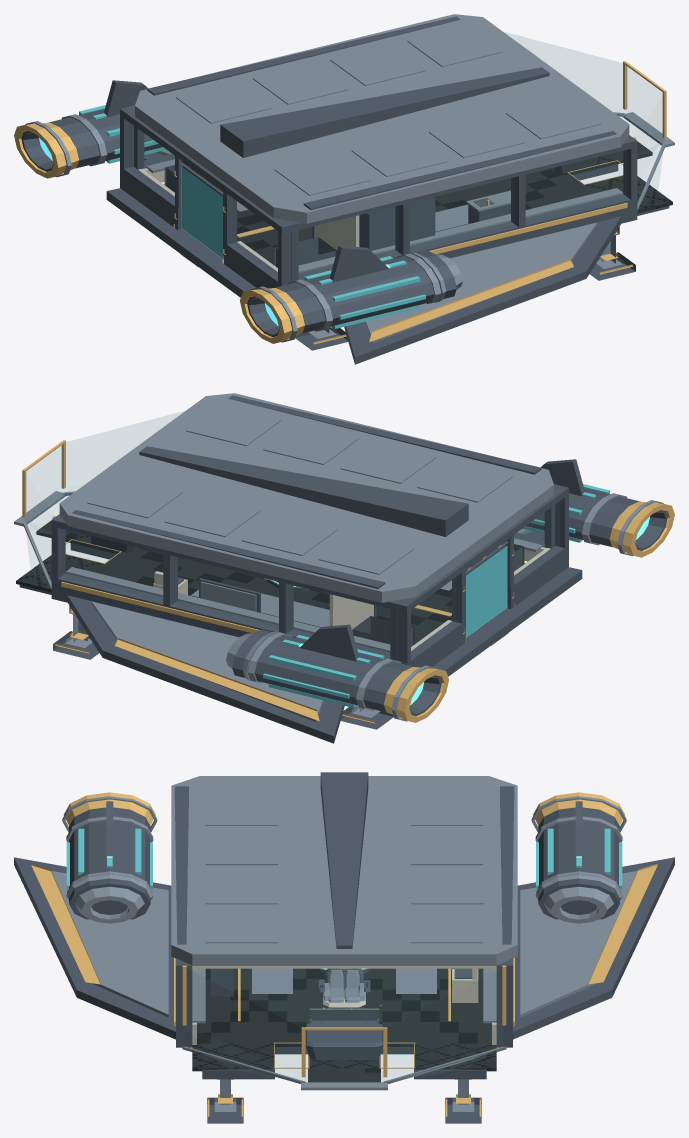
The model's file is salimon_phase0_ship.glb.
3 views of the same model, one above another, from view 1: azimuth 30°, elevation 25°; view 2: azimuth 150°, elevation 25°; view 3: azimuth 270°, elevation 25° (orthographic). The views are drawn at different scales.
Visible parts, largest first — view 1: Hull_Roof, Roof_Service_Panels, Hull_Port_Side, Dorsal_Spine, Hull_Aft_Cap, Deck_Walkable, Wing_Port, Engine_Port, Wing_Port_Armor, Cockpit_Glazing, Roof_Shoulder_Rails, Hull_Belly (+24 smaller); view 2: Hull_Roof, Roof_Service_Panels, Hull_Starboard_Side, Dorsal_Spine, Hull_Aft_Cap, Deck_Walkable, Wing_Starboard, Engine_Starboard, Wing_Starboard_Armor, Cockpit_Glazing, Roof_Shoulder_Rails, Hull_Belly (+24 smaller); view 3: Hull_Roof, Roof_Service_Panels, Deck_Walkable, Wing_Port_Armor, Wing_Starboard_Armor, Dorsal_Spine, Wing_Port, Wing_Starboard, Engine_Port, Engine_Starboard, Roof_Shoulder_Rails, Cockpit_Console_Center (+26 smaller).
Part boxes in pixels (x1,y1,x2,y2): Hull_Roof: (135,14,629,223); Roof_Service_Panels: (176,26,601,195); Hull_Port_Side: (285,135,637,281); Dorsal_Spine: (220,67,549,157); Hull_Aft_Cap: (120,106,291,289); Deck_Walkable: (237,141,672,264); Wing_Port: (344,216,621,364); Engine_Port: (274,250,456,333); Wing_Port_Armor: (365,222,597,342); Cockpit_Glazing: (505,32,662,136); Roof_Shoulder_Rails: (147,16,616,209); Hull_Belly: (106,164,669,297); Hull_Roof: (59,393,553,602); Roof_Service_Panels: (87,405,512,574); Hull_Starboard_Side: (51,514,403,660); Dorsal_Spine: (139,446,468,536); Hull_Aft_Cap: (397,485,568,668); Deck_Walkable: (16,520,451,643); Wing_Starboard: (67,595,344,743); Engine_Starboard: (232,629,414,712); Wing_Starboard_Armor: (91,601,323,721); Cockpit_Glazing: (26,411,183,515); Roof_Shoulder_Rails: (72,395,541,588); Hull_Belly: (19,543,582,676); Hull_Roof: (171,776,517,965); Roof_Service_Panels: (205,794,483,943); Deck_Walkable: (192,968,496,1082); Wing_Port_Armor: (51,871,168,1017); Wing_Starboard_Armor: (520,871,637,1017); Dorsal_Spine: (320,772,368,948); Wing_Port: (14,857,175,1039); Wing_Starboard: (513,857,674,1039); Engine_Port: (69,807,150,919); Engine_Starboard: (538,807,619,919); Roof_Shoulder_Rails: (174,786,514,944); Cockpit_Console_Center: (306,1022,382,1059).
Size of the model in its own units: 18.33 by 6 by 20.
13 materials, 1 textured.
